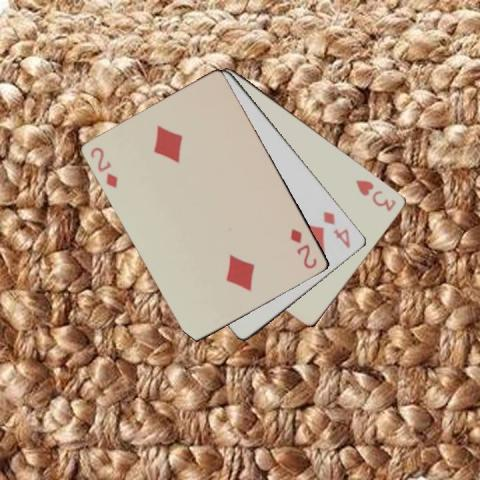2d: (87, 144, 120, 190), (287, 226, 319, 271)
3h: (353, 176, 398, 212)
4d: (320, 208, 352, 250)
